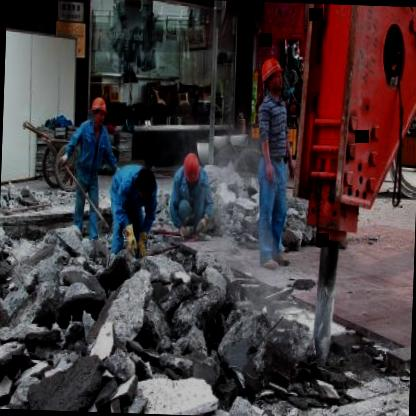head: (135, 163, 158, 205)
helmet: (261, 57, 285, 97), (182, 150, 201, 183), (90, 94, 108, 128)
